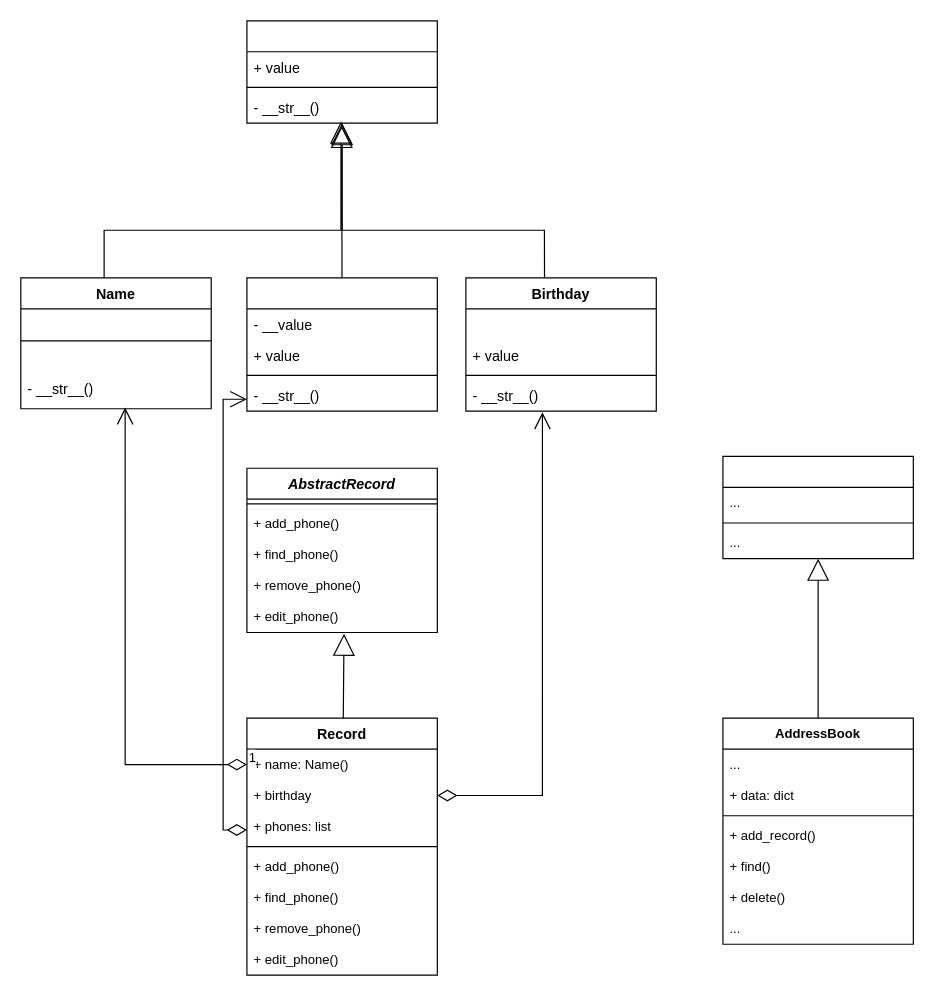
This 934x1000 diagram has some shape labels left out. Each missing label, with the box of its shape:
Field: (246, 20, 437, 123)
Phone: (246, 277, 437, 411)
UserDict: (722, 455, 913, 559)
